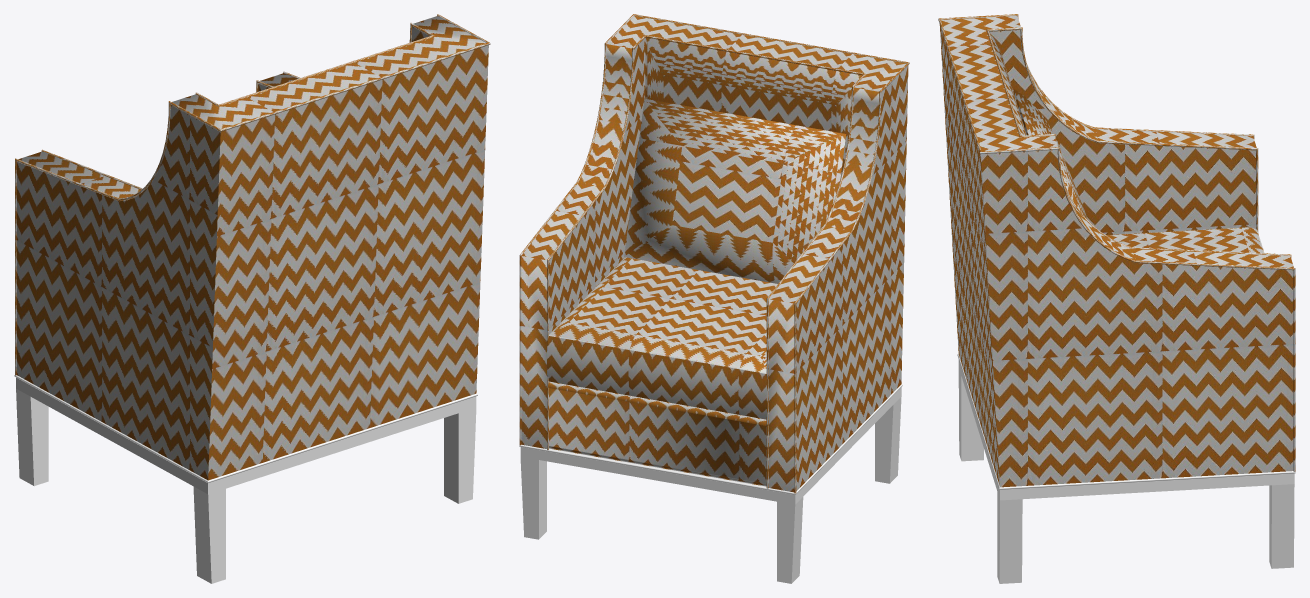
3 renders of one model, left to right at view 1: azimuth 30°, elevation 25°; view 2: azimuth 150°, elevation 25°; view 3: azimuth 270°, elevation 25°, orthographic. The views are drawn at different scales.
Visible parts, largest first — view 1: mesh2_mesh2-geometry, mesh5_mesh5-geometry; view 2: mesh2_mesh2-geometry, mesh1_mesh1-geometry, mesh5_mesh5-geometry; view 3: mesh2_mesh2-geometry, mesh5_mesh5-geometry, mesh1_mesh1-geometry.
Boxes of the visible parts, bbox=[...] form: mesh2_mesh2-geometry: bbox=[15, 14, 490, 480]; mesh5_mesh5-geometry: bbox=[14, 375, 477, 583]; mesh2_mesh2-geometry: bbox=[519, 14, 909, 493]; mesh1_mesh1-geometry: bbox=[624, 98, 846, 283]; mesh5_mesh5-geometry: bbox=[519, 384, 902, 583]; mesh2_mesh2-geometry: bbox=[938, 14, 1295, 487]; mesh5_mesh5-geometry: bbox=[957, 354, 1295, 583]; mesh1_mesh1-geometry: bbox=[1013, 89, 1086, 218].
Size of the model in its own units: 0.5142 by 0.6879 by 0.5123.
3 materials, 1 textured.
